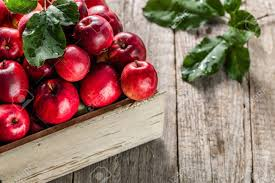apple: (120, 63, 162, 101), (39, 82, 77, 119), (82, 70, 120, 105), (76, 18, 112, 53), (60, 47, 95, 82), (110, 31, 145, 66), (1, 62, 29, 100), (1, 105, 30, 140), (2, 27, 26, 57)
